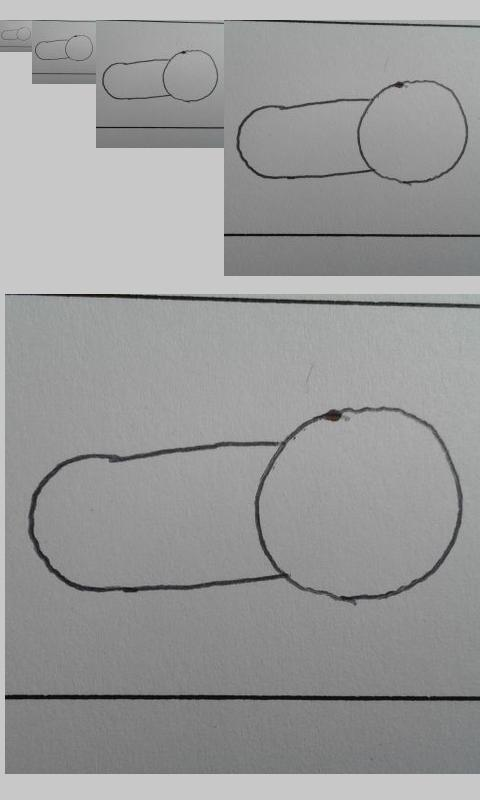switch: (28, 405, 465, 605), (235, 79, 469, 187), (101, 50, 220, 103), (35, 35, 94, 62), (1, 26, 32, 41)
